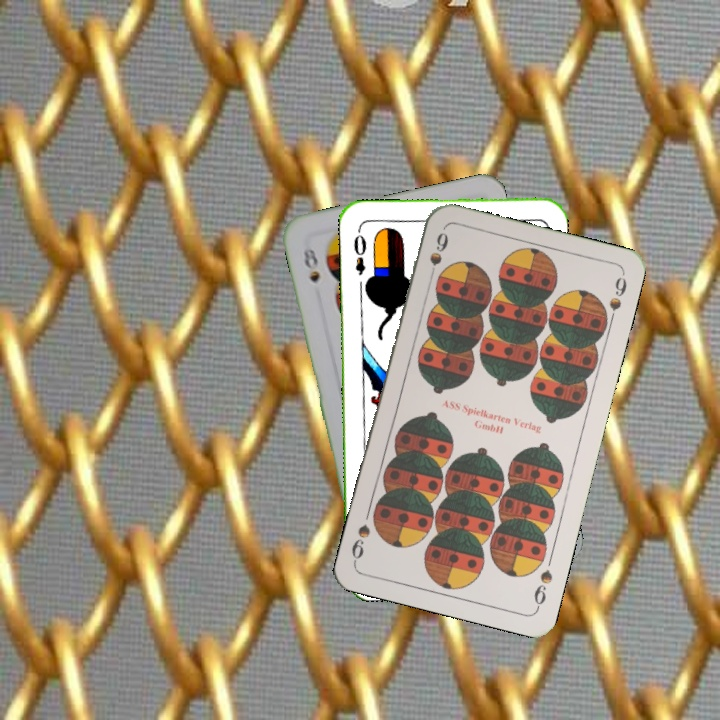EO: (349, 225, 368, 277)
S8: (299, 241, 322, 285)
S9: (425, 228, 451, 285), (530, 565, 555, 612)
